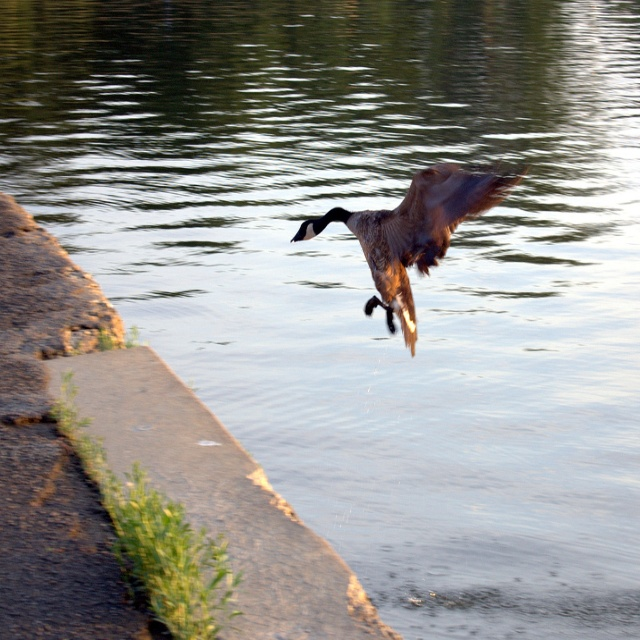Goose: (300, 162, 509, 350)
